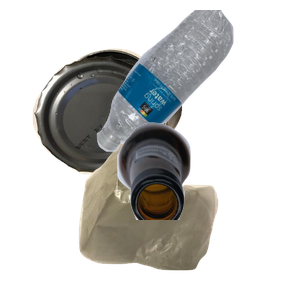glass: (115, 120, 300, 300)
metal: (30, 46, 205, 215)
plastic: (94, 10, 300, 154)
trash: (76, 124, 287, 300)
